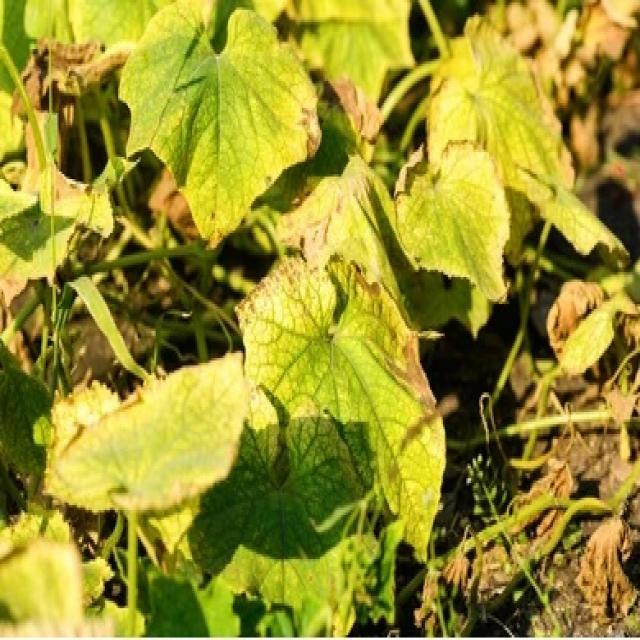Aphids: (237, 254, 407, 382), (12, 33, 122, 126), (566, 497, 637, 636), (522, 56, 580, 207), (387, 140, 489, 212), (540, 271, 614, 347), (329, 56, 387, 149), (439, 538, 496, 614), (294, 94, 335, 164)
